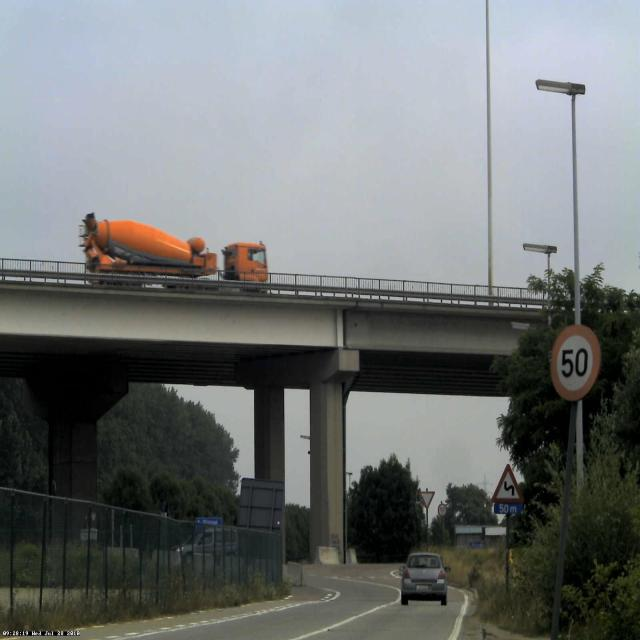other: (75, 186, 288, 288)
